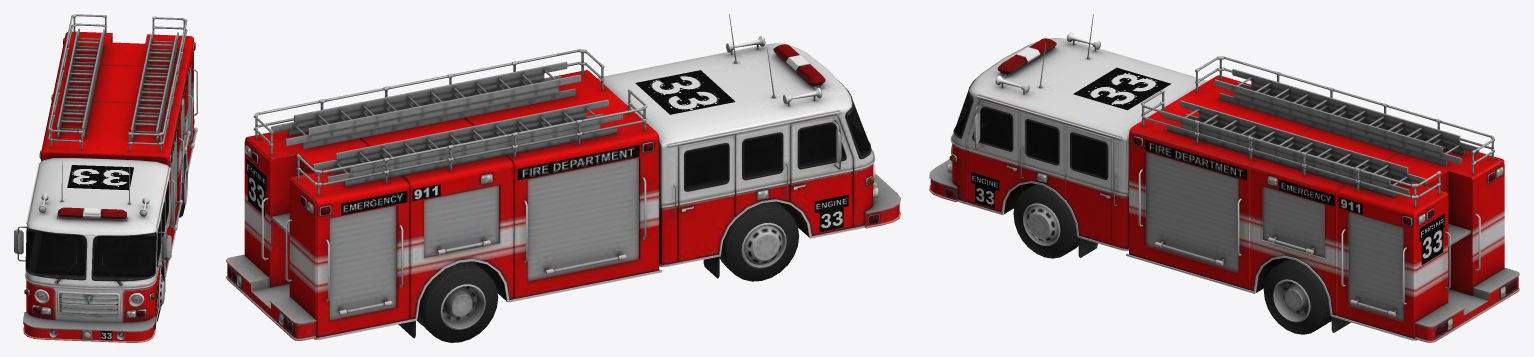
The model's file is veh-bomberos.glb.
3 views of the same model, side by side, from view 1: azimuth 30°, elevation 25°; view 2: azimuth 150°, elevation 25°; view 3: azimuth 270°, elevation 25° (orthographic). The views are drawn at different scales.
Visible parts, largest first — view 1: fire_truck; view 2: fire_truck; view 3: fire_truck.
Boxes of the visible parts, box(x1,y1,x2,y2) form: fire_truck: box(14, 14, 197, 342); fire_truck: box(226, 14, 900, 342); fire_truck: box(929, 14, 1519, 342).
Bounding box in the file's own units: 6.37 × 2.93 × 7.89.
Materials: 5 (5 with a texture image).
